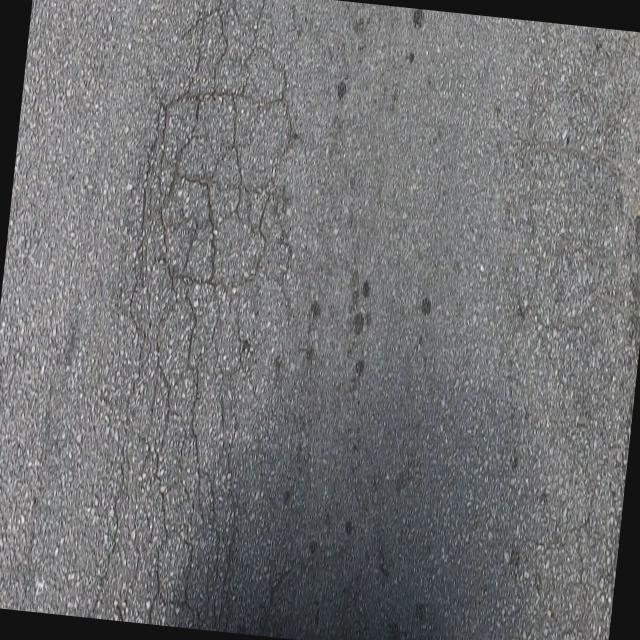Retak-Buaya: (86, 0, 299, 633)
